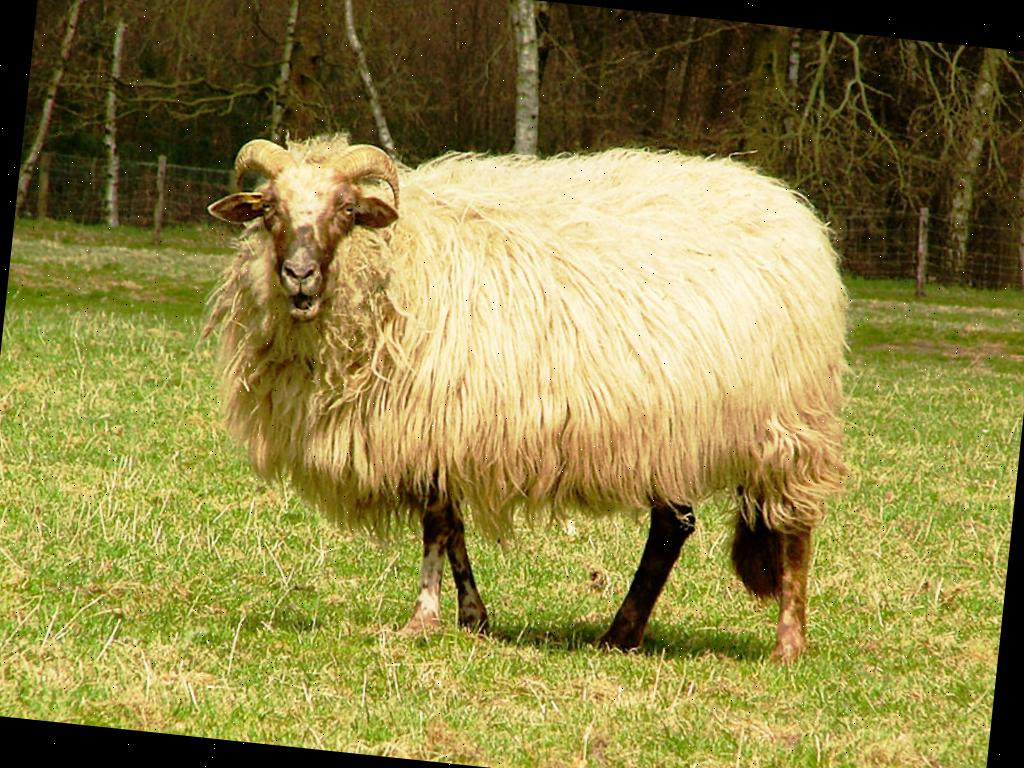Sheep: (150, 91, 906, 686)
